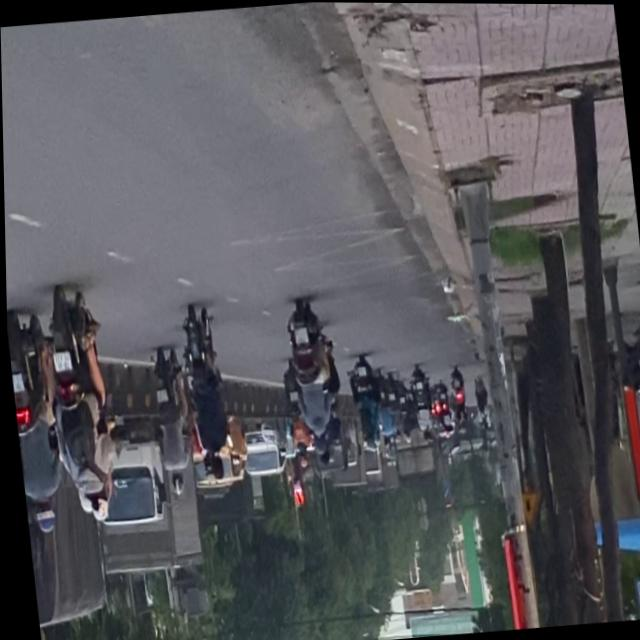helmet: (29, 498, 52, 535), (85, 488, 106, 521), (73, 487, 90, 516)
licenseplate: (35, 284, 121, 528), (5, 306, 65, 537)
nohelmet: (50, 352, 71, 373), (10, 375, 22, 396)
